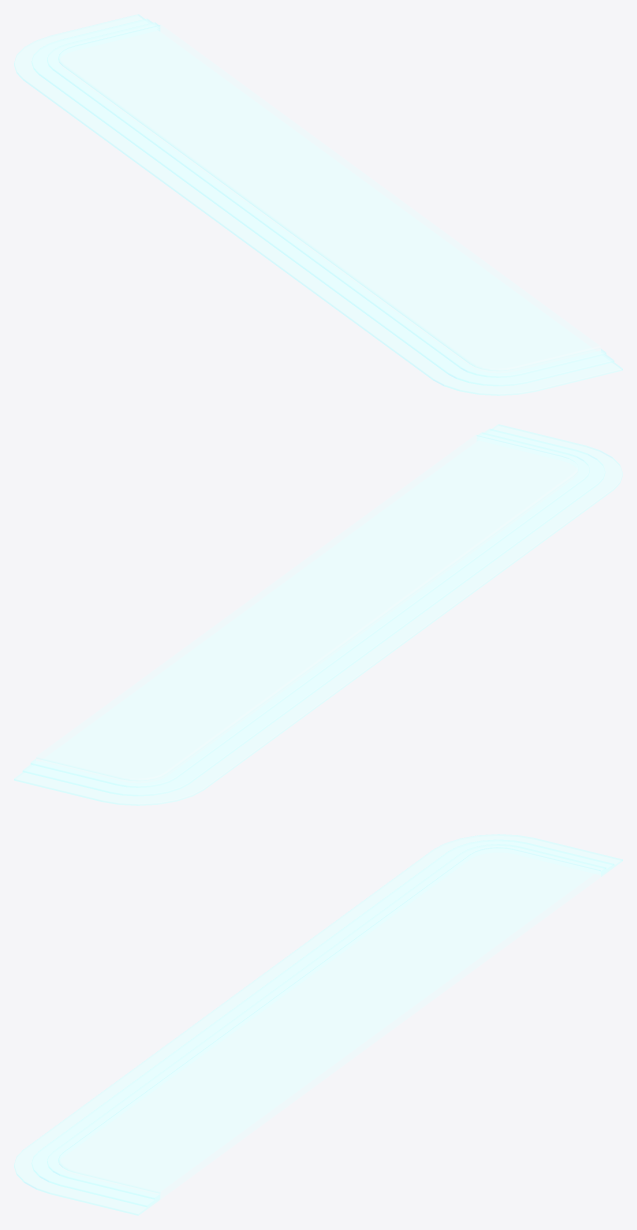
The model's file is Steps.glb.
3 views of the same model, one above another, from view 1: azimuth 30°, elevation 25°; view 2: azimuth 150°, elevation 25°; view 3: azimuth 330°, elevation 25° (orthographic).
Visible parts, largest first — view 1: debug_view; view 2: debug_view; view 3: debug_view.
Part boxes in pixels (box(x1,y1,x2,y2)): debug_view: box(14, 14, 622, 395); debug_view: box(14, 424, 622, 805); debug_view: box(14, 834, 622, 1215).
Bounding box in the file's own units: 11.99 × 0.6 × 66.
